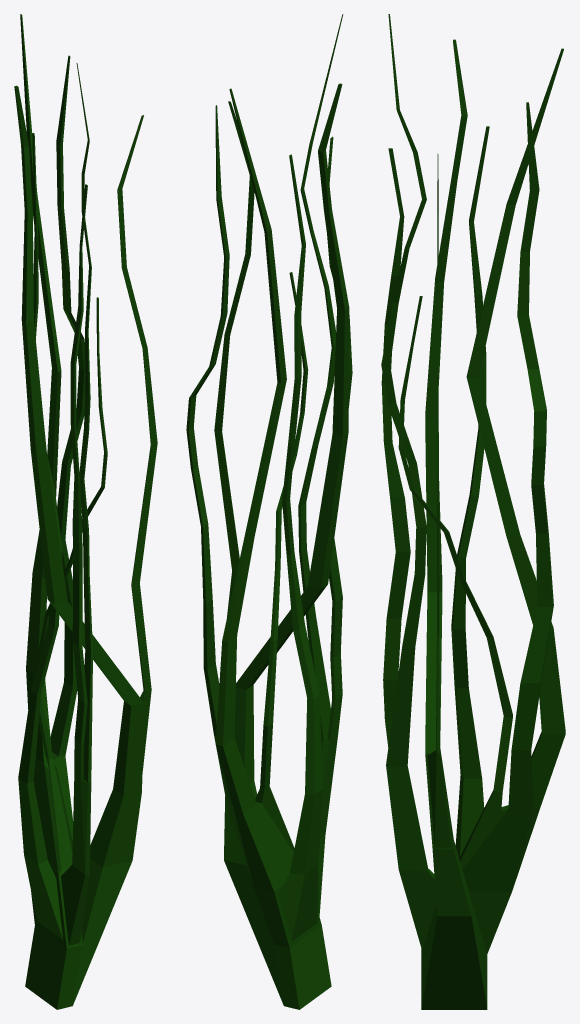
Rendered from alge.fbx.
3 views of the same model, side by side, from view 1: azimuth 30°, elevation 25°; view 2: azimuth 150°, elevation 25°; view 3: azimuth 270°, elevation 25° (orthographic). The views are drawn at different scales.
Visible parts, largest first — view 1: Cube; view 2: Cube; view 3: Cube.
Part boxes in pixels (box(x1,y1,x2,y2)): Cube: box(14, 14, 157, 1009); Cube: box(186, 14, 352, 1009); Cube: box(381, 14, 565, 1009).
Bounding box in the file's own units: 205 × 1395 × 235.
